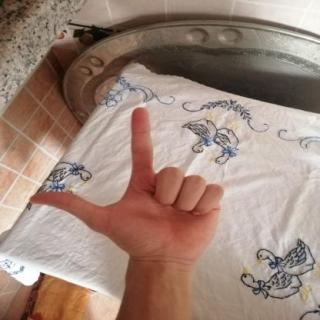LAAM: (20, 98, 232, 268)
